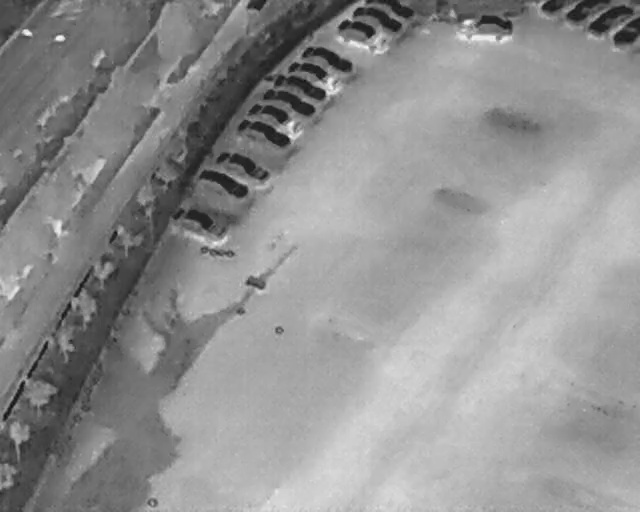Car: (168, 198, 232, 247), (233, 111, 297, 159), (331, 13, 395, 60), (212, 143, 275, 189), (246, 95, 309, 141), (258, 79, 320, 124), (192, 161, 252, 206), (269, 66, 330, 107), (297, 38, 356, 78), (348, 0, 406, 39), (285, 53, 341, 92), (457, 12, 515, 44), (586, 0, 627, 41), (564, 0, 611, 23), (367, 0, 416, 20), (612, 16, 639, 47), (538, 0, 573, 18)
